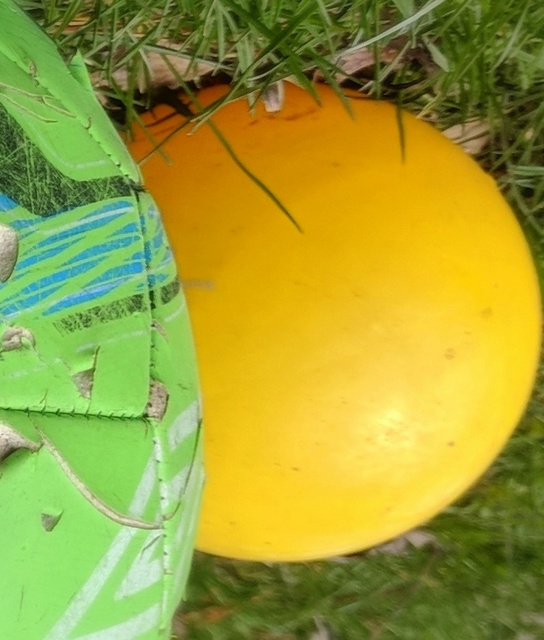ball: (111, 79, 544, 571)
